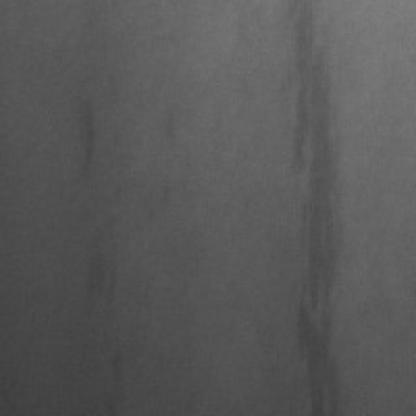inclusion: (280, 4, 353, 416), (77, 239, 121, 310), (66, 102, 104, 179)
